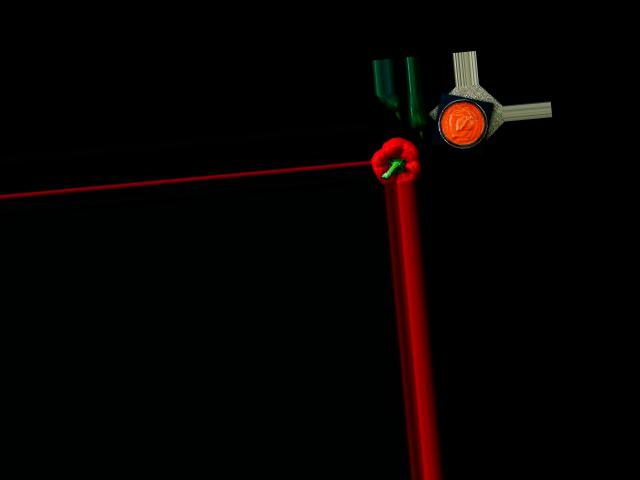bell_pepper: (370, 136, 422, 185)
